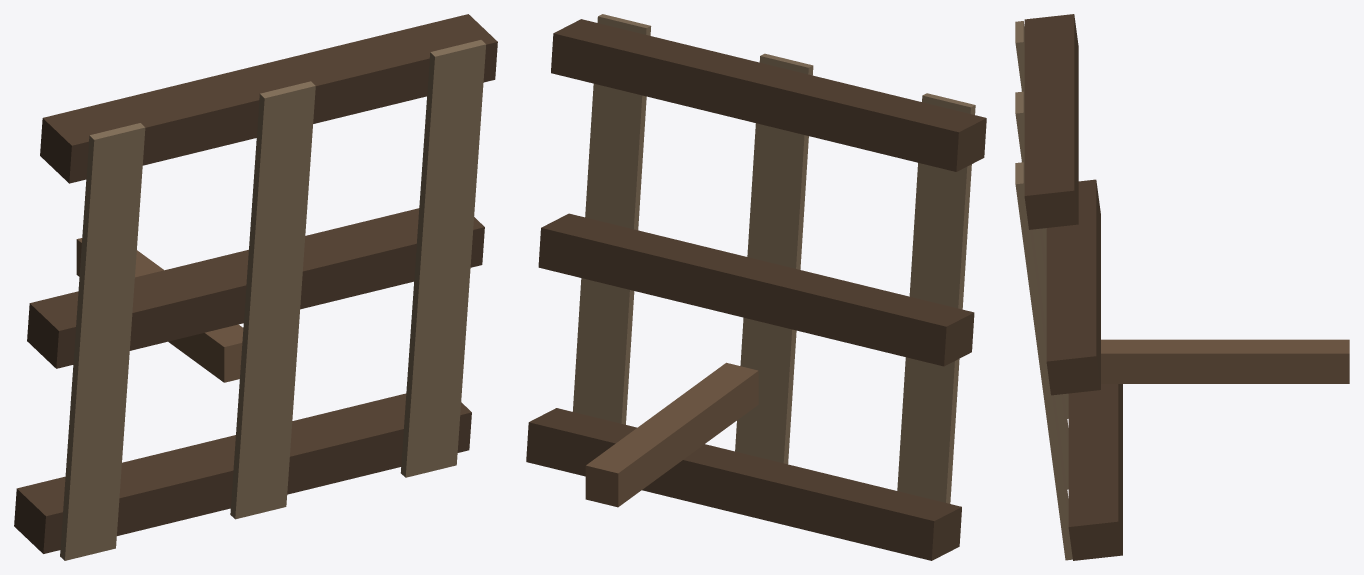
The model's file is prop_barricade_pallet_1.glb.
3 views of the same model, side by side, from view 1: azimuth 30°, elevation 25°; view 2: azimuth 150°, elevation 25°; view 3: azimuth 270°, elevation 25° (orthographic). The views are drawn at different scales.
Visible parts, largest first — view 1: prop_barricade_pallet_1; view 2: prop_barricade_pallet_1; view 3: prop_barricade_pallet_1.
Boxes of the visible parts, left/top/right/bottom form: prop_barricade_pallet_1: left=14, top=14, right=497, bottom=560; prop_barricade_pallet_1: left=526, top=14, right=986, bottom=560; prop_barricade_pallet_1: left=1015, top=14, right=1349, bottom=560.
Bounding box in the file's own units: 1 × 0.9952 × 0.7991.
